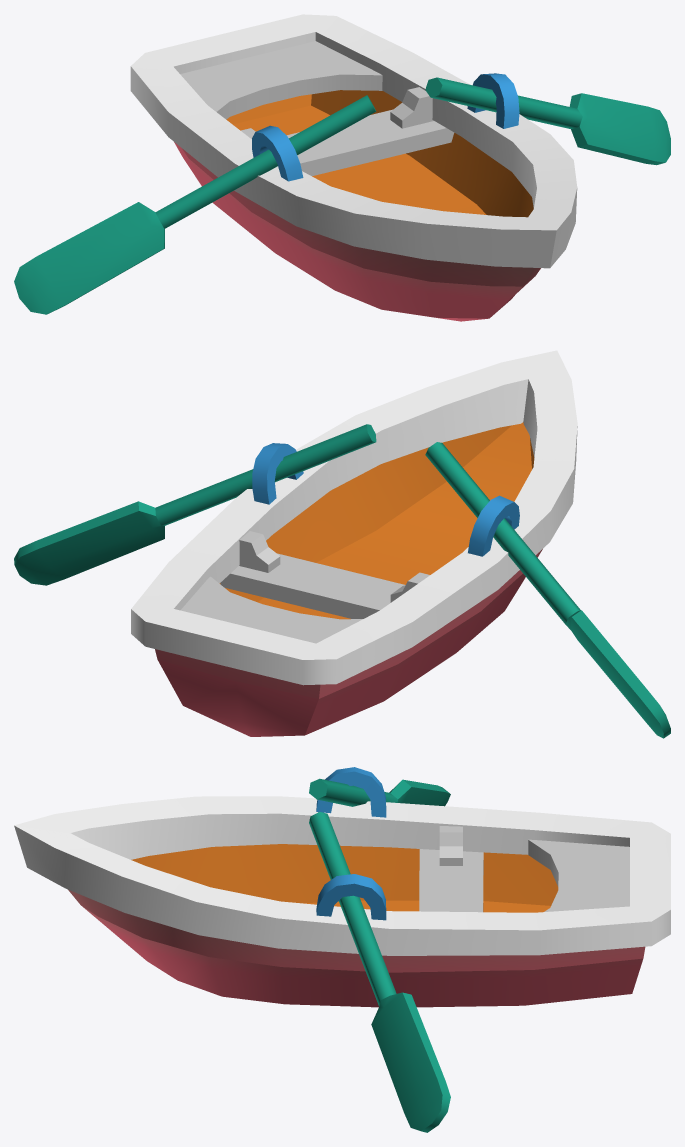
Rendered from Boat.fbx.
The picture shows the model from 3 angles, top to bottom: view 1: azimuth 30°, elevation 25°; view 2: azimuth 150°, elevation 25°; view 3: azimuth 270°, elevation 25°; orthographic projection.
Visible parts, largest first — view 1: Boat; view 2: Boat; view 3: Boat.
Part boxes in pixels (x1,y1,x2,y2): Boat: (14, 14, 670, 321); Boat: (14, 350, 670, 738); Boat: (14, 767, 670, 1132).
Size of the model in its own units: 486 by 143 by 429.
